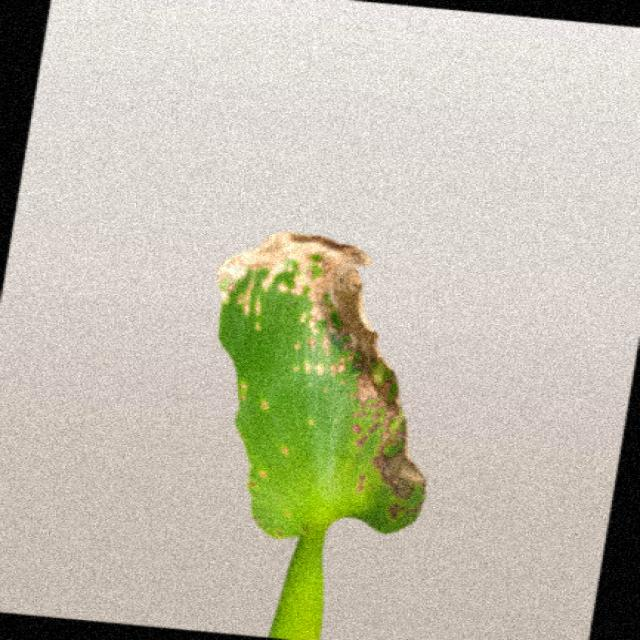daun berpenyakit bercak: (219, 232, 425, 639)
